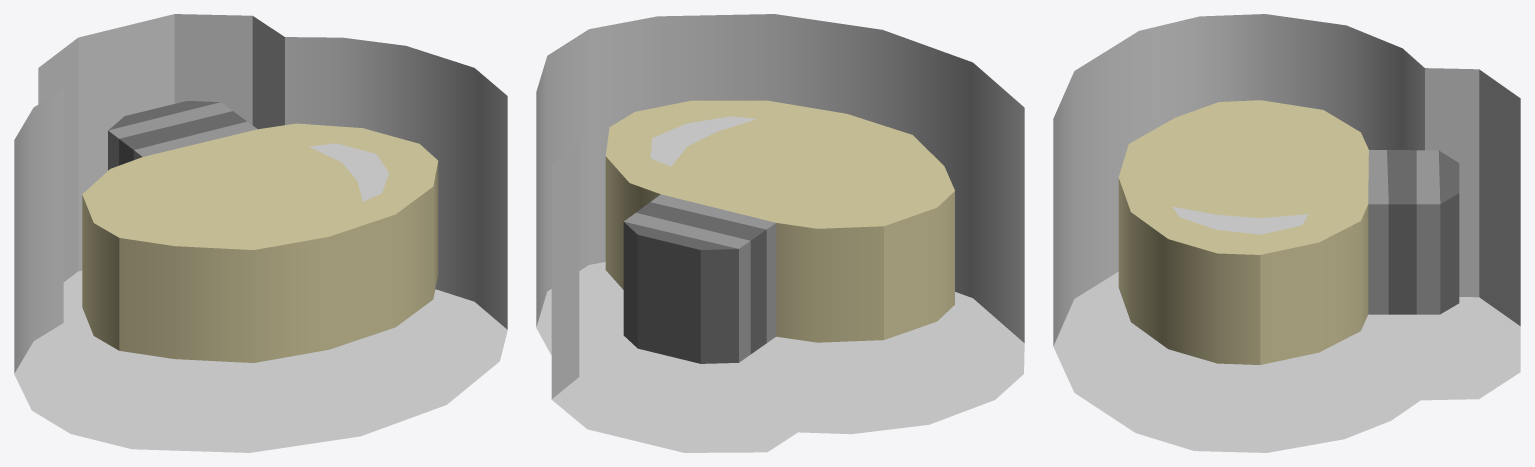
Rendered from LightBulb.glb.
3 renders of one model, left to right at view 1: azimuth 30°, elevation 25°; view 2: azimuth 150°, elevation 25°; view 3: azimuth 270°, elevation 25°, orthographic. The views are drawn at different scales.
Parts seen in each view (by area): view 1: LightBulb; view 2: LightBulb; view 3: LightBulb.
Part boxes in pixels (x1=…): LightBulb: x1=14, y1=14, x2=507, y2=452; LightBulb: x1=536, y1=14, x2=1024, y2=452; LightBulb: x1=1053, y1=14, x2=1520, y2=452.
Bounding box in the file's own units: 0.1875 × 0.0945 × 0.1755.
